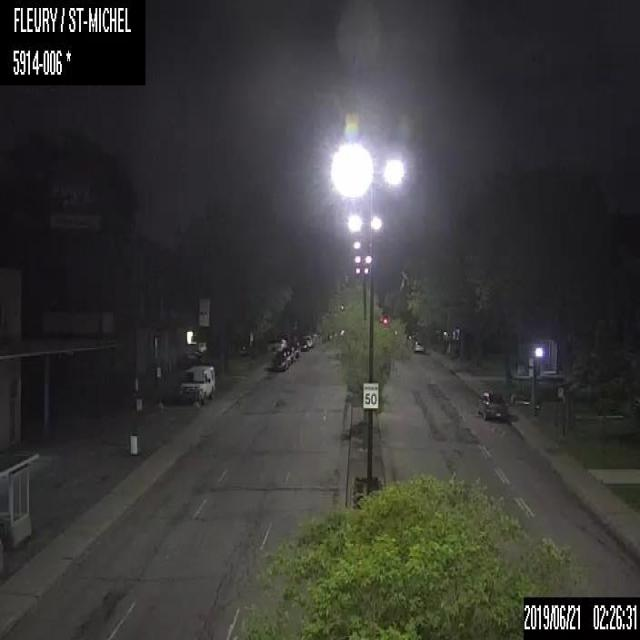vehicle: (176, 360, 218, 408), (478, 391, 508, 421), (271, 350, 287, 370), (413, 337, 427, 351), (283, 345, 294, 362), (281, 348, 290, 364), (300, 340, 307, 350)
